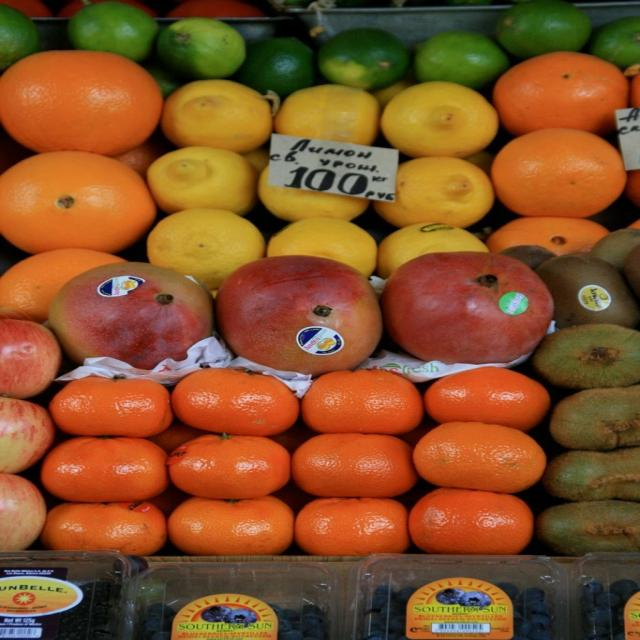Healty Apple: (0, 316, 58, 396), (0, 470, 52, 558), (0, 399, 64, 470)
